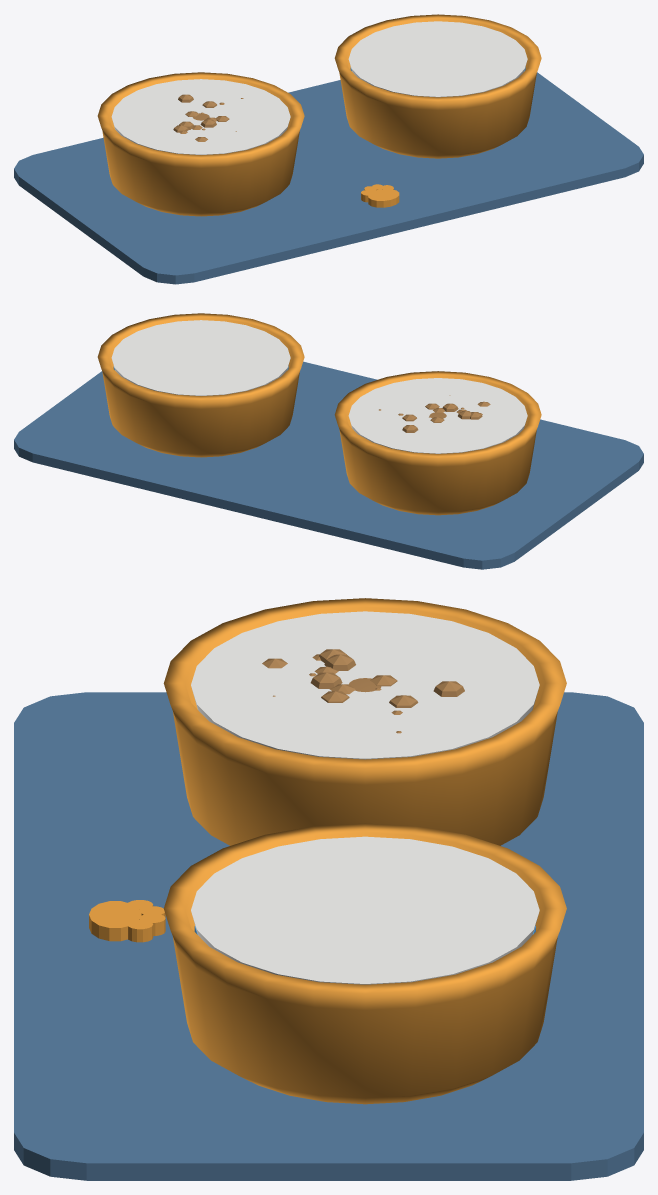
Rendered from cat_bowls.glb.
The picture shows the model from 3 angles, top to bottom: view 1: azimuth 30°, elevation 25°; view 2: azimuth 150°, elevation 25°; view 3: azimuth 270°, elevation 25°; orthographic projection. The views are drawn at different scales.
Parts seen in each view (by area): view 1: cat_bowls; view 2: cat_bowls; view 3: cat_bowls.
Boxes of the visible parts, <box> form: cat_bowls: <box>14,14,643,284</box>; cat_bowls: <box>14,313,643,569</box>; cat_bowls: <box>14,598,643,1180</box>.
Bounding box in the file's own units: 0.575 × 0.0899 × 0.325.
